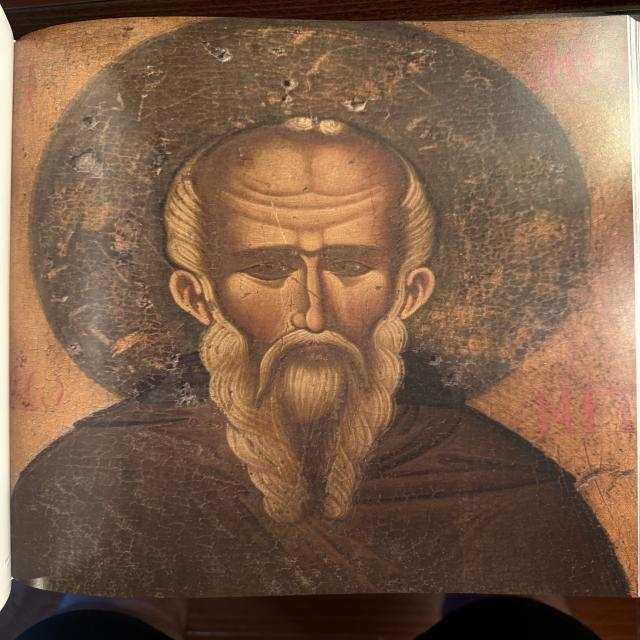aura: (26, 23, 602, 409)
saint: (16, 38, 636, 596)
